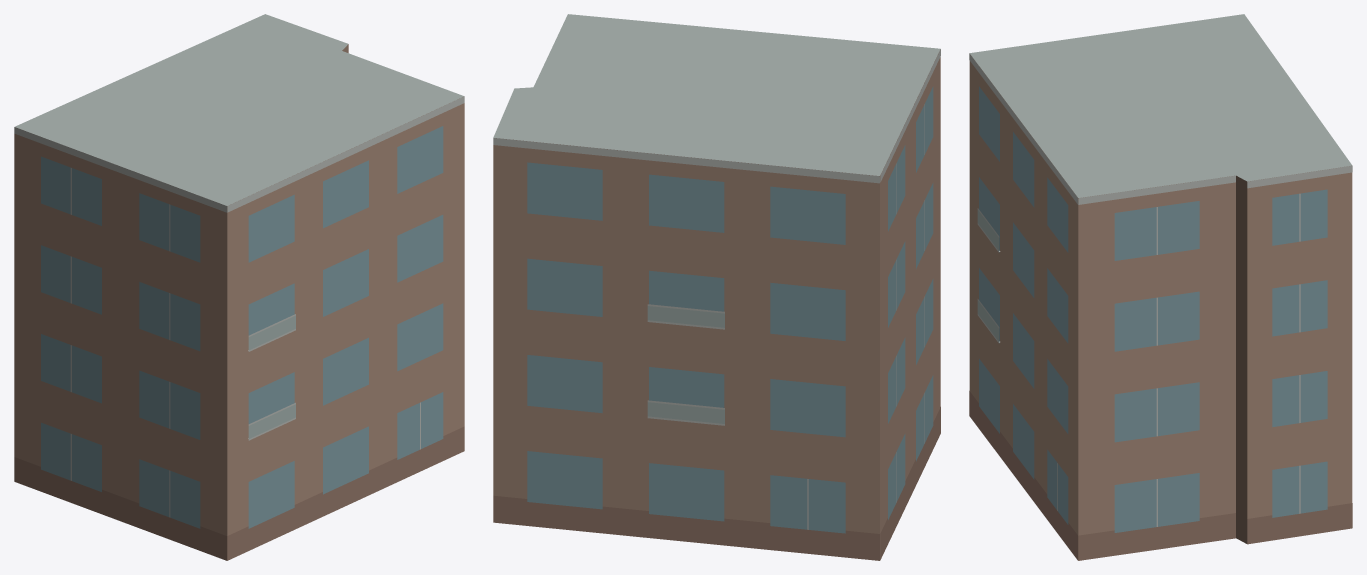
Rendered from survey-upis-32845656.glb.
3 renders of one model, left to right at view 1: azimuth 30°, elevation 25°; view 2: azimuth 150°, elevation 25°; view 3: azimuth 270°, elevation 25°, orthographic. The views are drawn at different scales.
Visible parts, largest first — view 1: survey-upis-32845656.tmp; view 2: survey-upis-32845656.tmp; view 3: survey-upis-32845656.tmp.
Boxes of the visible parts, bbox=[...] form: survey-upis-32845656.tmp: bbox=[14, 14, 464, 560]; survey-upis-32845656.tmp: bbox=[493, 14, 940, 560]; survey-upis-32845656.tmp: bbox=[969, 14, 1352, 560].
Size of the model in its own units: 14.05 by 12.9 by 12.35.
